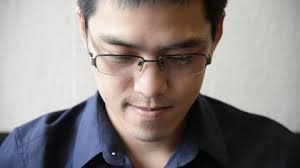asian_male: (65, 1, 228, 141)
